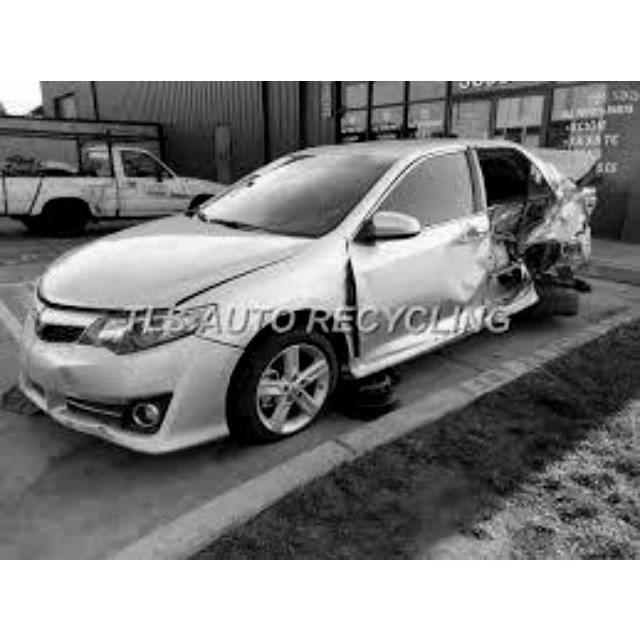doorouter-dent: (478, 152, 569, 290)
